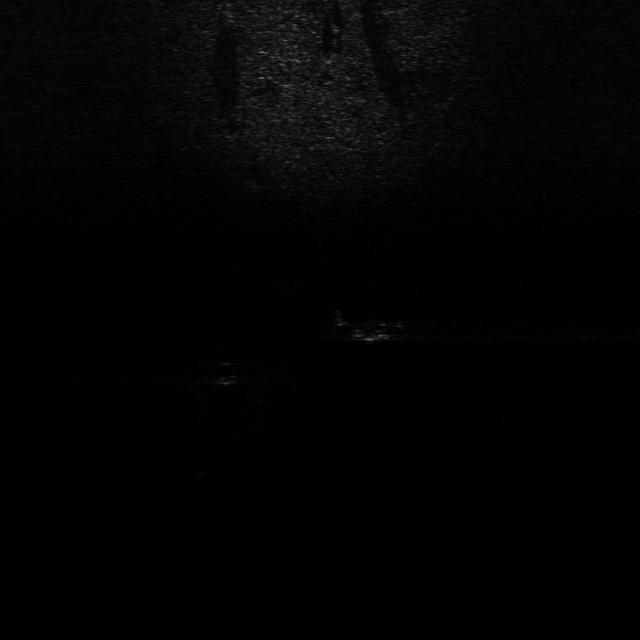ball: (206, 356, 243, 392)
human body: (333, 311, 423, 351)
